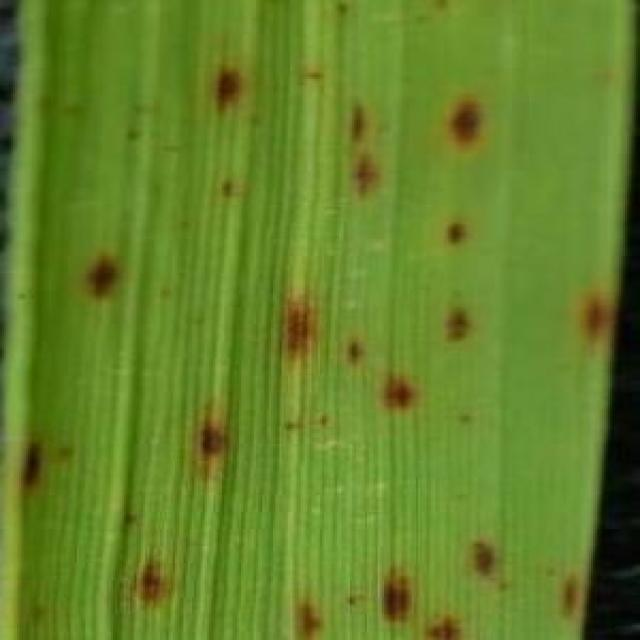Brown_Spot: (274, 286, 328, 371), (572, 284, 613, 355), (344, 143, 387, 209), (78, 245, 126, 303), (440, 96, 483, 160), (125, 94, 173, 151), (374, 564, 416, 628), (202, 59, 249, 114), (124, 554, 166, 614), (278, 404, 344, 442), (435, 298, 481, 352), (188, 418, 231, 472), (375, 370, 420, 421), (19, 436, 50, 498), (287, 600, 328, 640), (554, 574, 590, 618), (467, 530, 496, 574), (343, 99, 374, 140), (424, 611, 466, 640), (24, 604, 62, 636), (108, 508, 148, 538), (434, 219, 476, 247), (336, 332, 364, 372), (302, 62, 334, 87), (214, 172, 248, 194), (52, 443, 83, 463), (162, 287, 179, 311), (452, 407, 468, 424)
